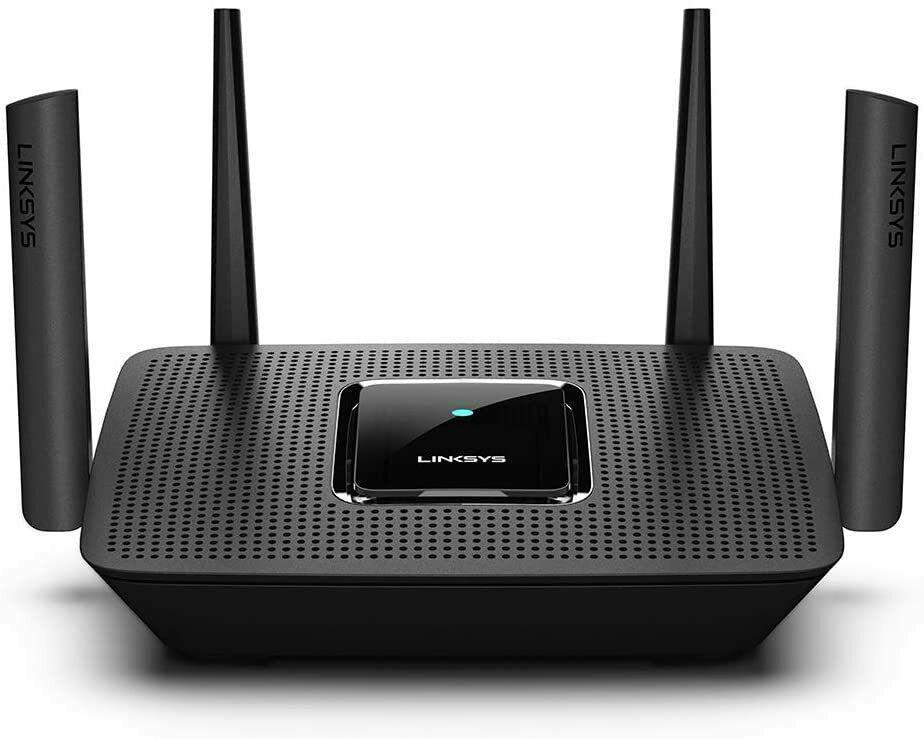router: (3, 6, 920, 672)
